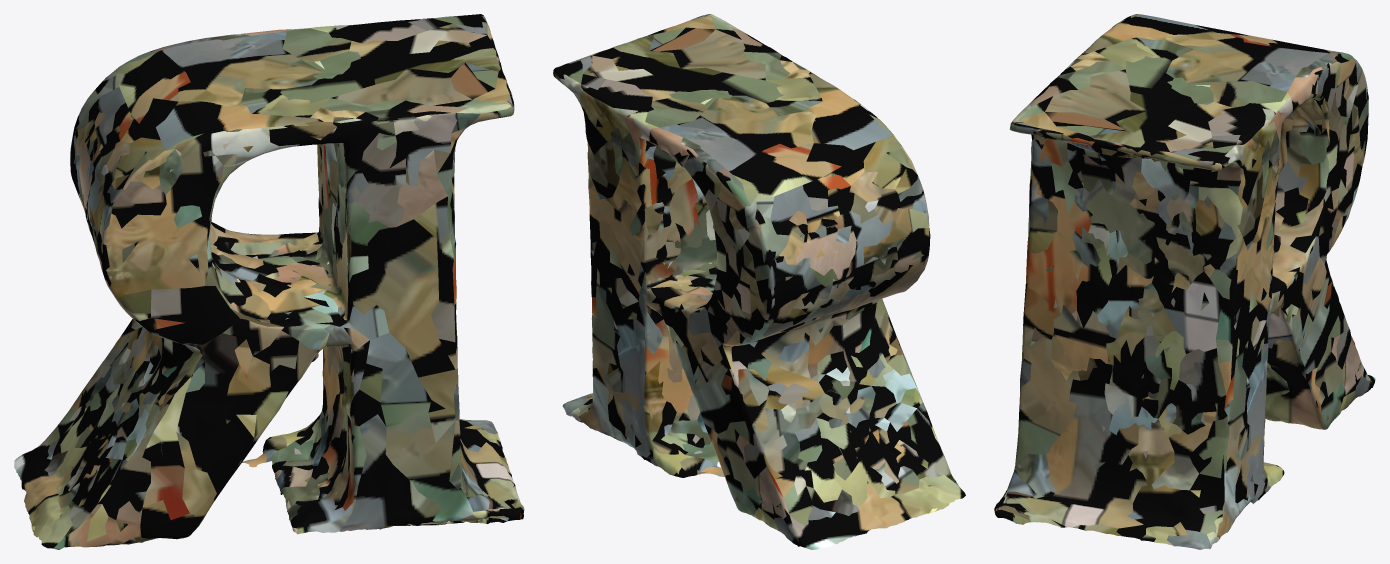
The model's file is mesh_lowpoly.obj.
3 views of the same model, side by side, from view 1: azimuth 30°, elevation 25°; view 2: azimuth 150°, elevation 25°; view 3: azimuth 270°, elevation 25° (orthographic). The views are drawn at different scales.
Bounding box in the file's own units: 1.94 × 1.68 × 1.45.
